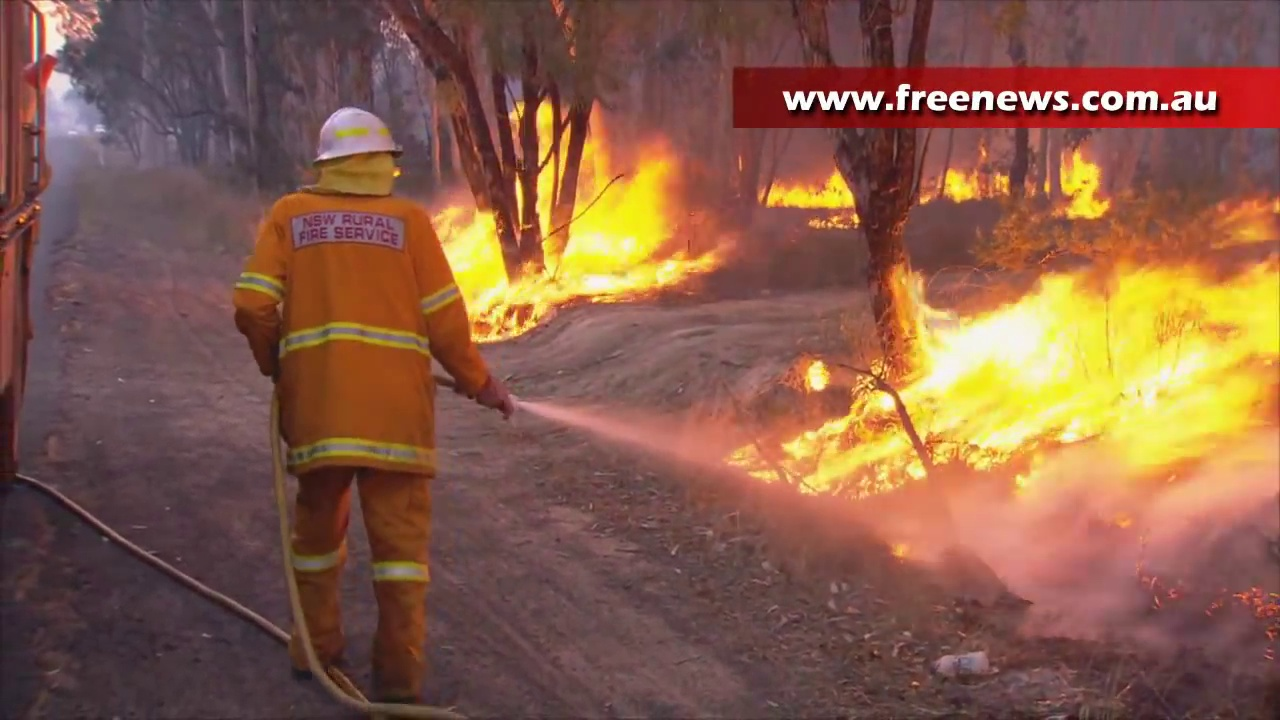fire: (776, 262, 1280, 491), (433, 104, 691, 337), (763, 170, 843, 208), (1063, 150, 1102, 216), (943, 171, 980, 199)
